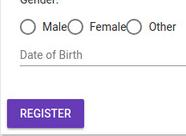button: (5, 97, 88, 130)
radio: (17, 15, 37, 37), (66, 16, 83, 36), (127, 17, 142, 37)
